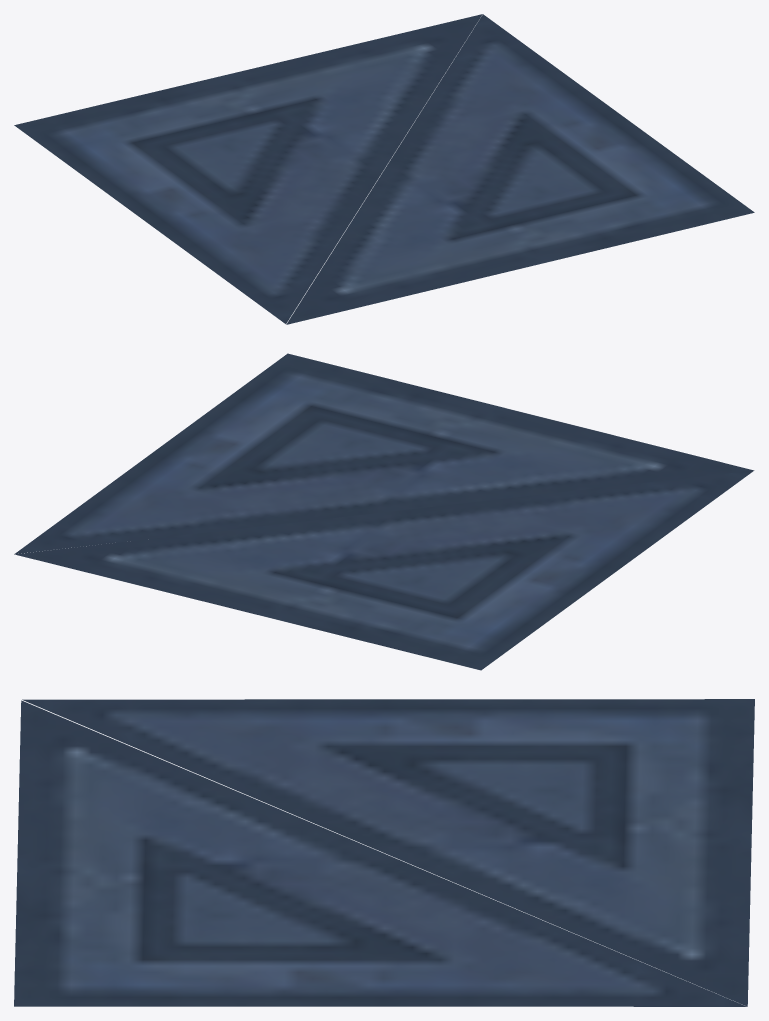
File: xiaowujian_group20.fbx
The picture shows the model from 3 angles, top to bottom: view 1: azimuth 30°, elevation 25°; view 2: azimuth 150°, elevation 25°; view 3: azimuth 270°, elevation 25°; orthographic projection. The views are drawn at different scales.
Visible parts, largest first — view 1: xiaowujian_group20; view 2: xiaowujian_group20; view 3: xiaowujian_group20.
Boxes of the visible parts, left/top/right/bottom form: xiaowujian_group20: left=14, top=14, right=754, bottom=324; xiaowujian_group20: left=14, top=353, right=754, bottom=670; xiaowujian_group20: left=14, top=699, right=754, bottom=1006.
Bounding box in the file's own units: 689 × 1.09 × 702.
1 material, 1 textured.
